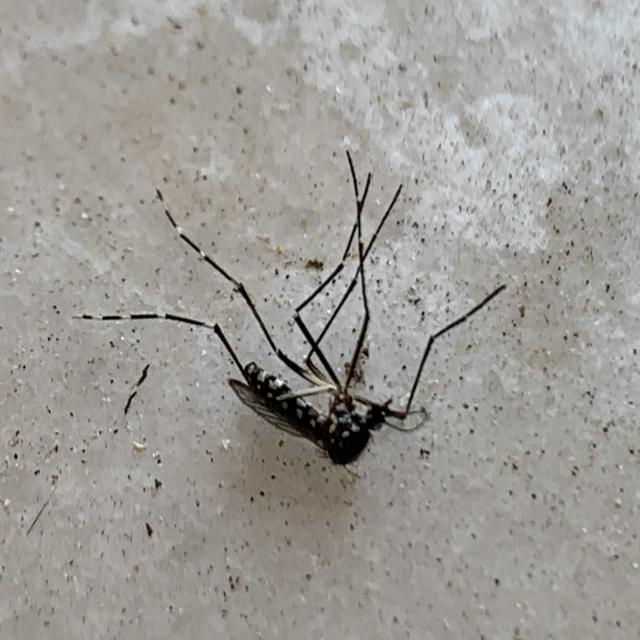albopictus: (63, 122, 494, 464)
